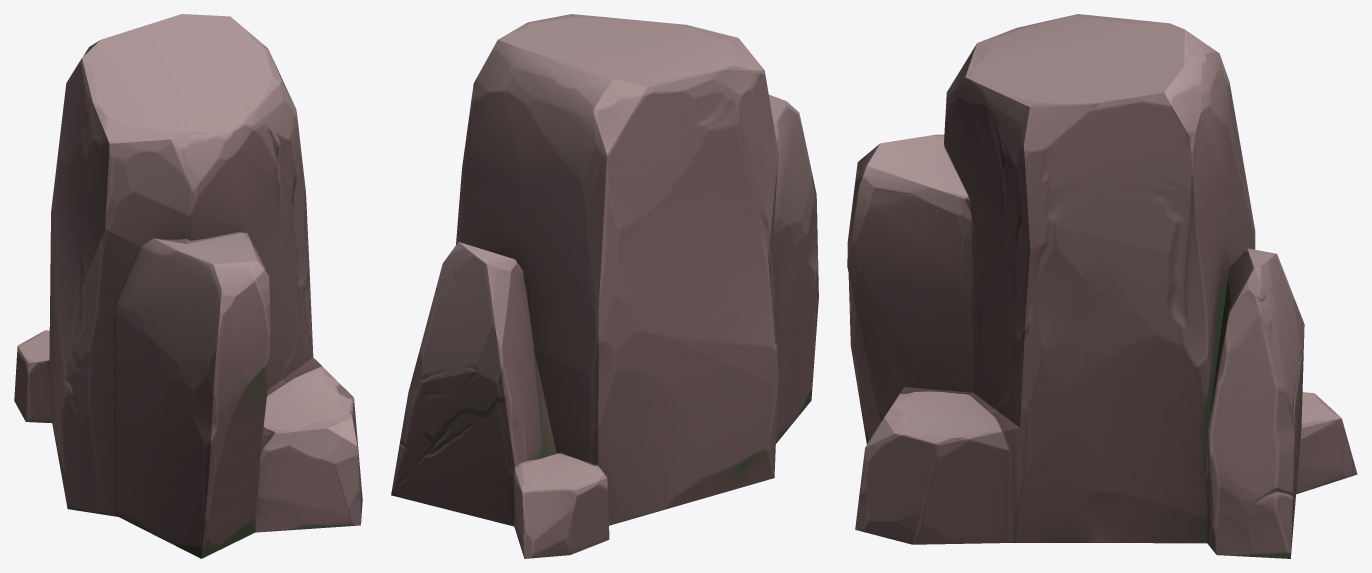
The model's file is stone_1.glb.
The picture shows the model from 3 angles, left to right: view 1: azimuth 30°, elevation 25°; view 2: azimuth 150°, elevation 25°; view 3: azimuth 270°, elevation 25°; orthographic projection. The views are drawn at different scales.
Parts seen in each view (by area): view 1: lp2; view 2: lp2; view 3: lp2.
Part boxes in pixels (x1,y1,x2,y2): lp2: (14,14,362,558); lp2: (391,14,818,558); lp2: (847,14,1357,558).
Bounding box in the file's own units: 0.3818 × 0.5671 × 0.5848.
1 material, 1 textured.
